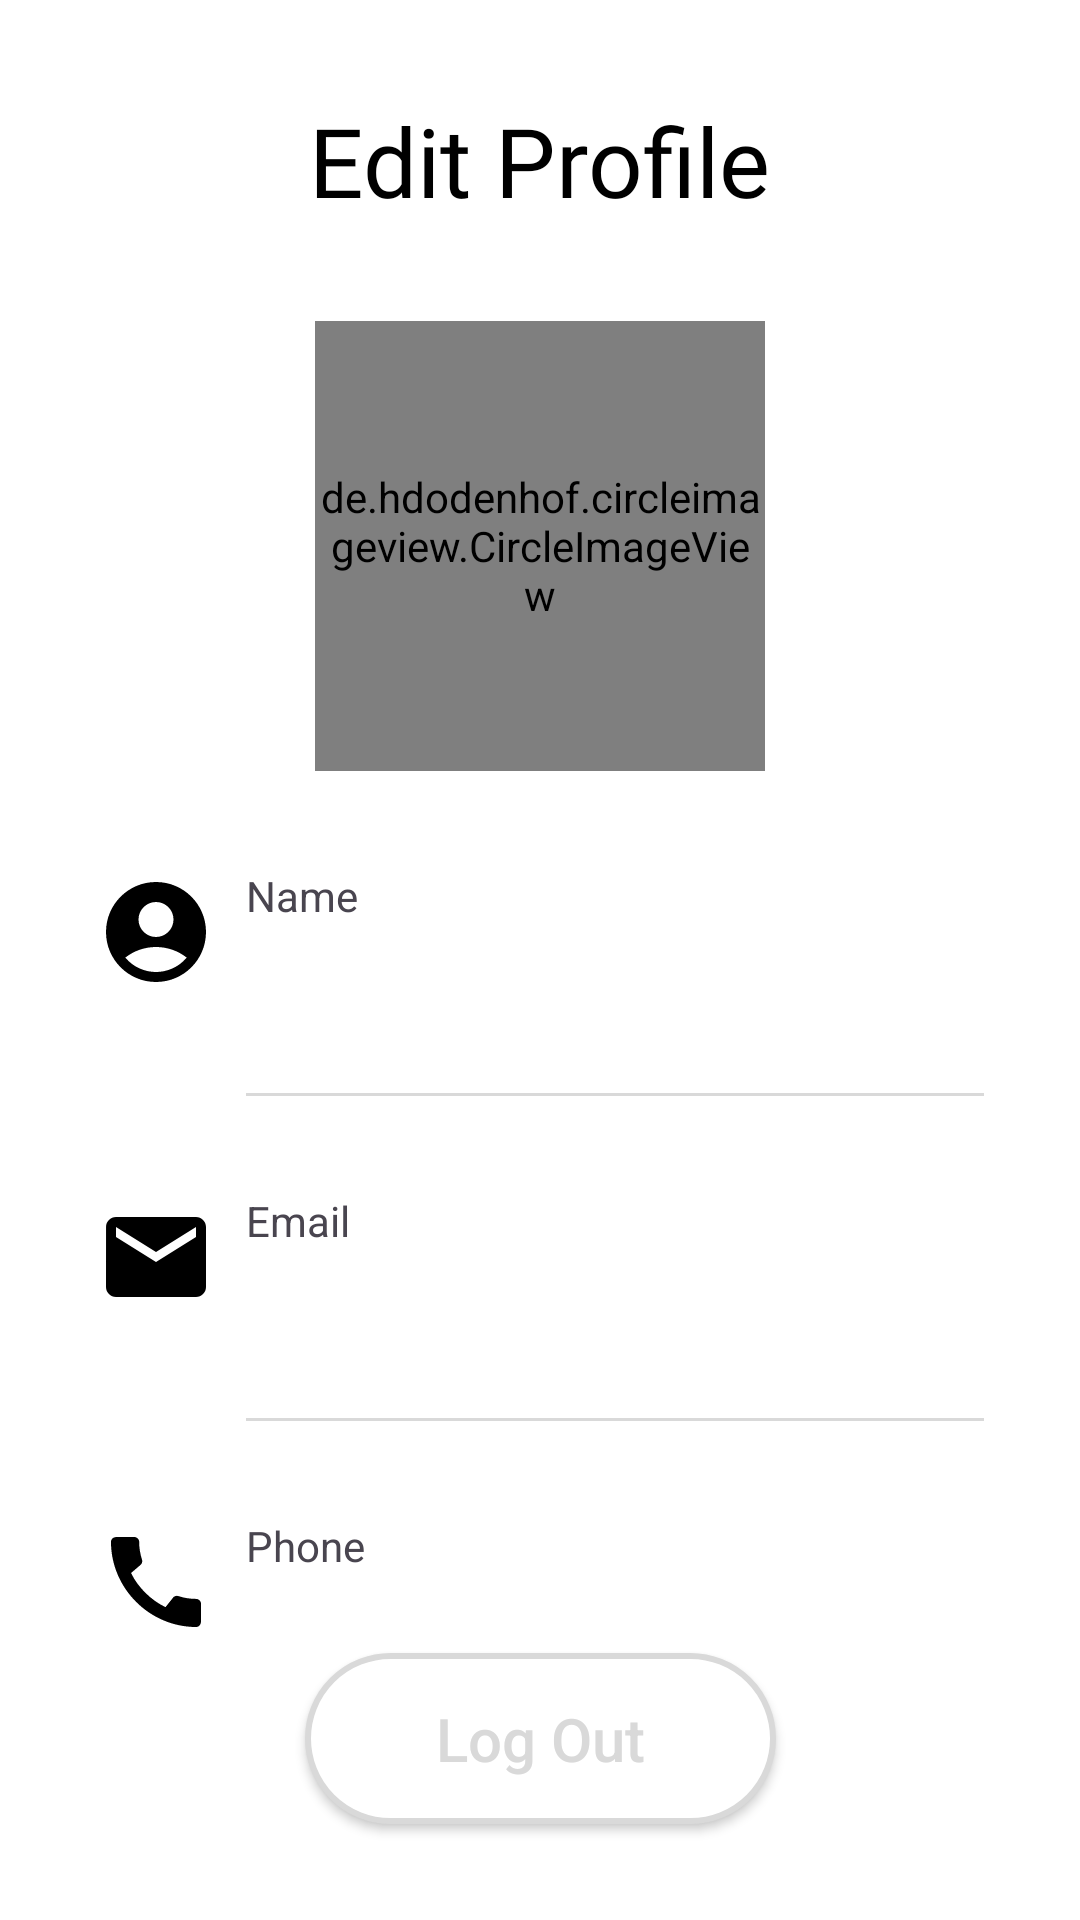

Icons on this 1080w x 1920h Android screen, each with its box as box(x1, y1, x2, y2):
account: box(106, 882, 206, 982)
call: box(111, 1537, 201, 1627)
